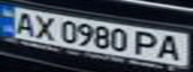0: (54, 18, 78, 45), (109, 26, 133, 53)
8: (90, 24, 112, 51)
9: (75, 20, 96, 47)
A: (154, 33, 187, 62), (9, 9, 39, 36)
P: (133, 29, 163, 56)
X: (30, 12, 60, 41)
